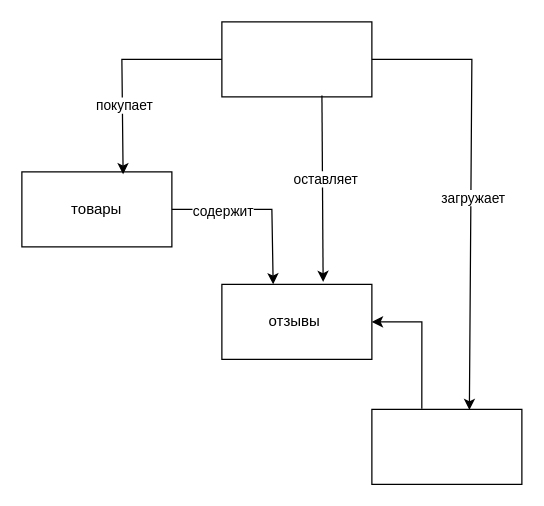
Some shapes in this 544 by 506 pixel diagram are drawn without their labels. Here are the shapes that lost their labels. From the top down, the box of each, then its label:
(221, 21, 372, 97): User
(371, 408, 522, 484): фото/видео
